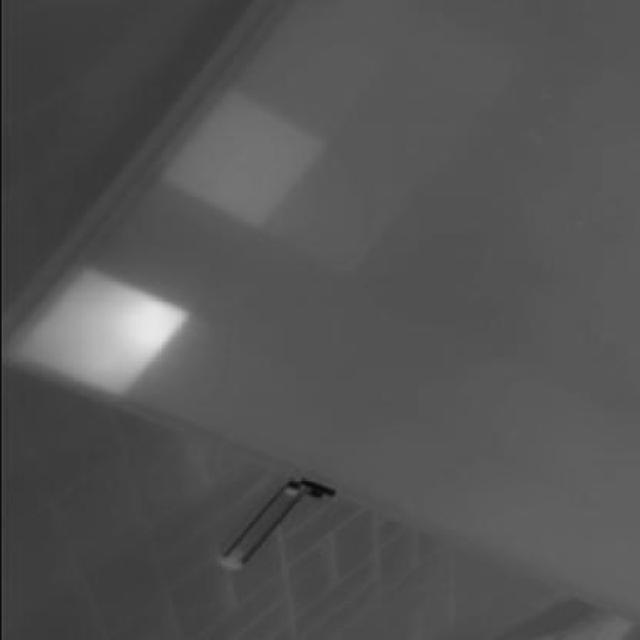hotspot: (5, 260, 196, 406)
